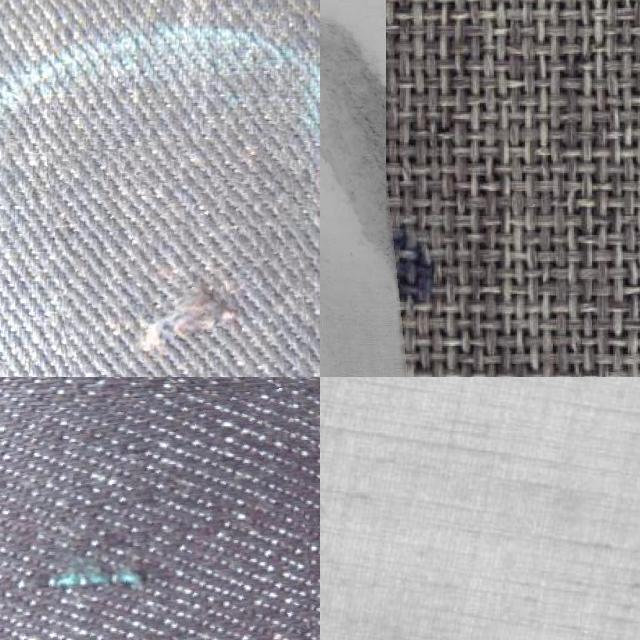Hole: (320, 0, 400, 377)
Thread_other: (0, 395, 314, 640), (54, 135, 312, 377)
